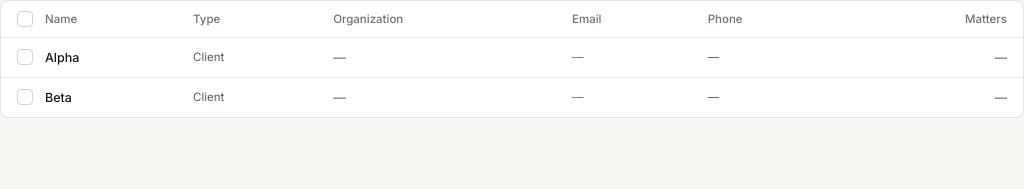
it: ContactsTable — selection › no bulk bar until a row is checked; count tracks the selection
expect the text "selected" is not shown: met
Click the checkbox named "Select Alpha" at {"x": 25, "y": 57}, box [17, 49, 33, 65]
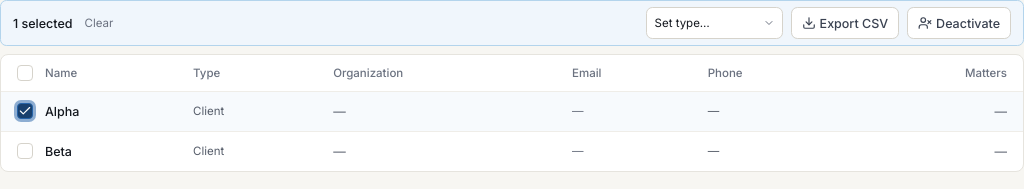
expect the text "1 selected" is shown: met, box [13, 14, 72, 32]
Click the checkbox named "Select Beta" at {"x": 25, "y": 151}, box [17, 143, 33, 159]
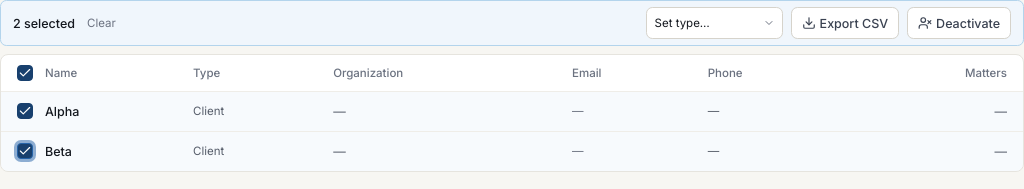
expect the text "2 selected" is shown: met, box [13, 14, 75, 32]
